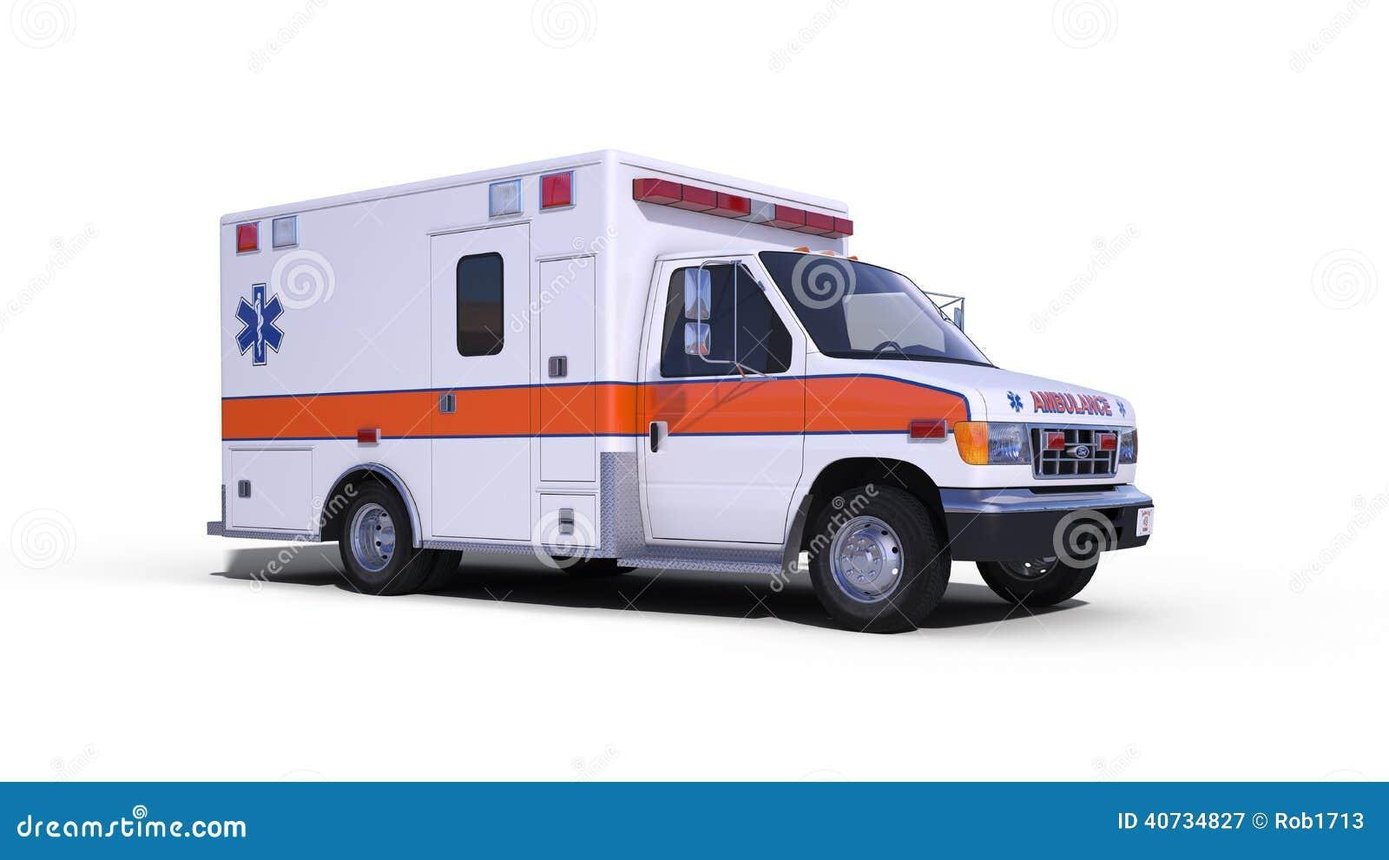Ambulance: (221, 283, 293, 372)
